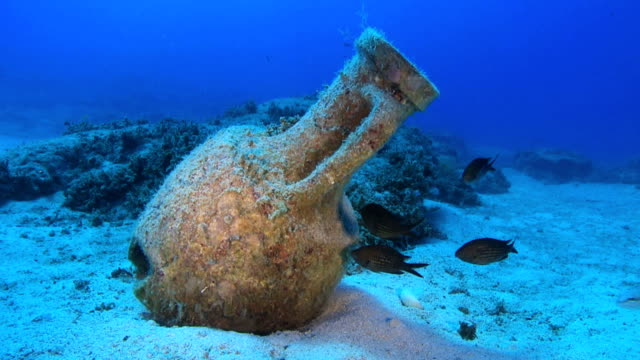amphora: (125, 27, 441, 331)
